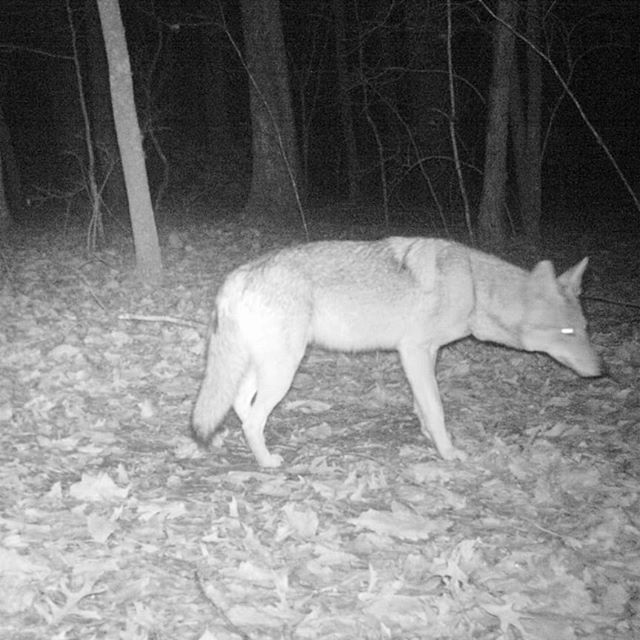coyote: (192, 233, 616, 471)
